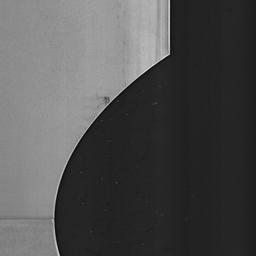Crescent gap: (54, 56, 169, 256)
